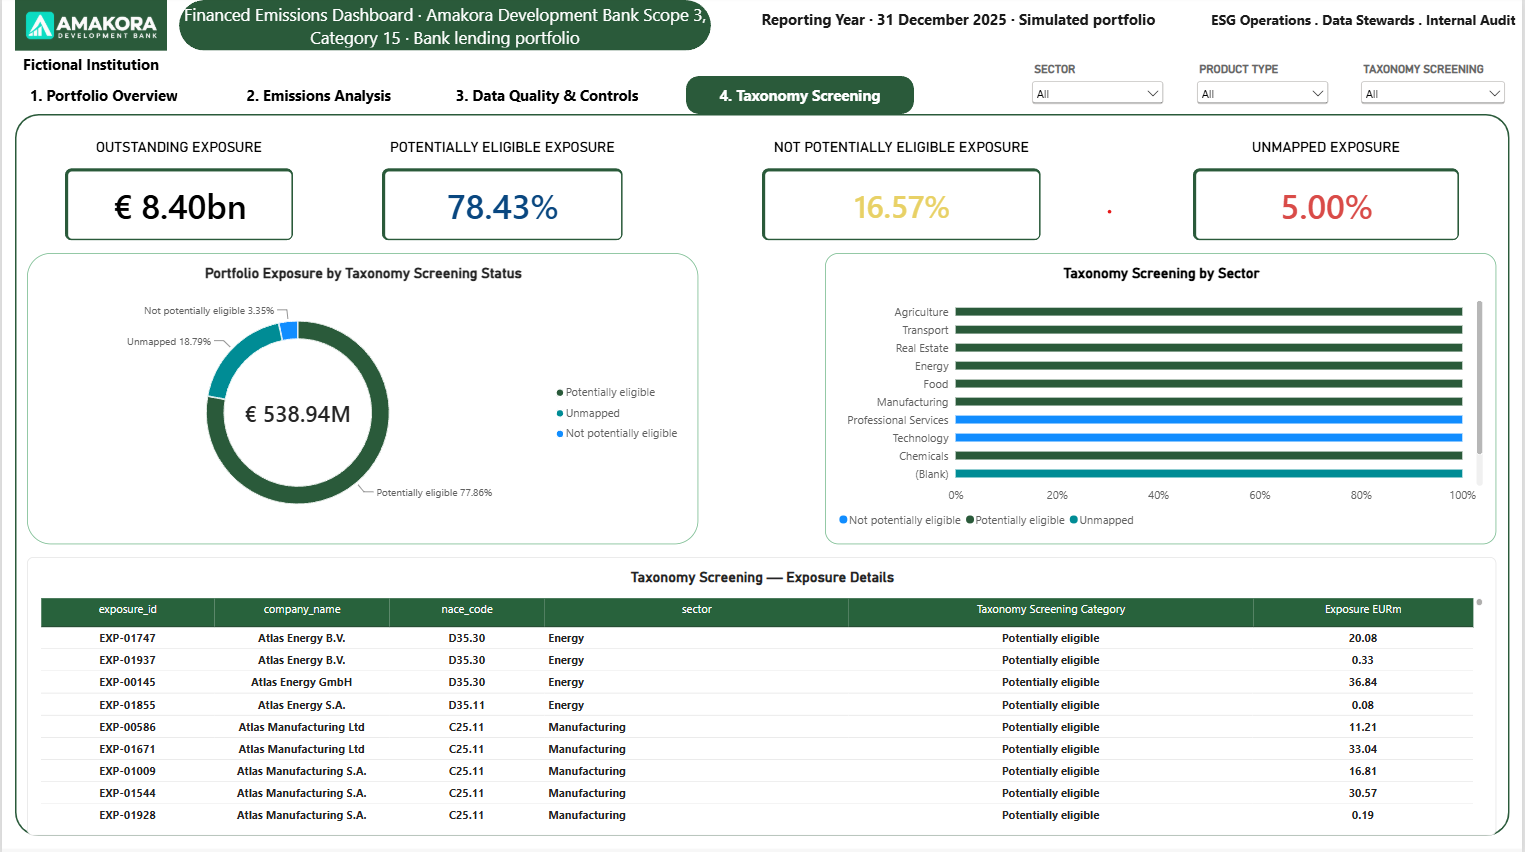

The page's visual inventory and layout, read from the dashboard file:
{"tool":"powerbi","page":{"name":"Taxonomy Map","canvas":[1920,1080],"ordinal":3},"visuals":[{"type":"shape","box":[0,0,1920,1072],"z":0},{"type":"shape","box":[224,0,672,64],"z":1000},{"type":"shape","box":[912,0,592,48],"z":2000},{"type":"shape","box":[16,96,224,48],"z":3000},{"type":"shape","box":[16,144,1888,912],"z":4000},{"type":"cardVisual","title":"POTENTIALLY ELIGIBLE EXPOSURE","fields":{"Data":["FCT_Portfolio_Calculated.Potentially Eligible Exposure %"]},"box":[480,176,304,128],"z":5000},{"type":"cardVisual","title":"UNMAPPED EXPOSURE","fields":{"Data":["FCT_Portfolio_Calculated.Unmapped Exposure %"]},"box":[1504,176,336,128],"z":6000},{"type":"donutChart","title":"Portfolio Exposure by Taxonomy Screening Status","fields":{"Category":["FCT_Portfolio_Calculated.Taxonomy Screening Category"],"Y":["FCT_Portfolio_Calculated.Portfolio Exposure EUR"]},"box":[32,320,848,368],"z":7000},{"type":"shape","box":[288,96,224,48],"z":8000},{"type":"slicer","fields":{"Values":["STG_Counterparties.sector_reported"]},"box":[1296,80,176,64],"z":9000},{"type":"slicer","fields":{"Values":["FCT_Portfolio_Calculated.product_type"]},"box":[1504,80,176,64],"z":10000},{"type":"slicer","fields":{"Values":["FCT_Portfolio_Calculated.Taxonomy Screening Category"]},"box":[1712,80,192,64],"z":11000},{"type":"hundredPercentStackedBarChart","title":"Taxonomy Screening by Sector","fields":{"Category":["STG_Sector_Factors.sector"],"Y":["FCT_Portfolio_Calculated.Portfolio Exposure EUR"],"Series":["FCT_Portfolio_Calculated.Taxonomy Screening Category"]},"box":[1040,320,848,368],"z":12000},{"type":"shape","box":[544,96,288,48],"z":13000},{"type":"cardVisual","title":"NOT POTENTIALLY ELIGIBLE EXPOSURE","fields":{"Data":["FCT_Portfolio_Calculated.Not Potentially Eligible Exposure %"]},"box":[960,176,352,128],"z":14000},{"type":"tableEx","title":"Taxonomy Screening — Exposure Details","fields":{"Values":["FCT_Portfolio_Calculated.exposure_id","STG_Counterparties.company_name","STG_Counterparties.nace_code","STG_Sector_Factors.sector","FCT_Portfolio_Calculated.Taxonomy Screening Category","FCT_Portfolio_Calculated.Exposure EURm"]},"box":[32,704,1856,352],"z":15000},{"type":"shape","box":[1520,0,400,48],"z":16000},{"type":"image","box":[16,0,192,64],"z":17000},{"type":"cardVisual","title":"OUTSTANDING EXPOSURE","fields":{"Data":["FCT_Loan_Exposures_Valid.Total Valid Exposure EUR"]},"box":[80,176,288,128],"z":18000},{"type":"shape","box":[864,96,288,48],"z":19000},{"type":"shape","box":[16,64,192,32],"z":20000}]}

Visuals, with their boxes in screenshot pixels (x1, y1, x2, y2), scaled from the page's 1920x1080 canvas onto the 1525x852 screenshot:
shape: BBox(0, 0, 1524, 846)
shape: BBox(178, 0, 712, 50)
shape: BBox(724, 0, 1195, 38)
shape: BBox(13, 76, 191, 114)
shape: BBox(13, 114, 1512, 833)
"POTENTIALLY ELIGIBLE EXPOSURE" cardVisual: BBox(381, 139, 623, 240)
"UNMAPPED EXPOSURE" cardVisual: BBox(1195, 139, 1461, 240)
"Portfolio Exposure by Taxonomy Screening Status" donutChart: BBox(25, 252, 699, 543)
shape: BBox(229, 76, 407, 114)
slicer - STG_Counterparties.sector_reported: BBox(1029, 63, 1169, 114)
slicer - FCT_Portfolio_Calculated.product_type: BBox(1195, 63, 1334, 114)
slicer - FCT_Portfolio_Calculated.Taxonomy Screening Category: BBox(1360, 63, 1512, 114)
"Taxonomy Screening by Sector" hundredPercentStackedBarChart: BBox(826, 252, 1500, 543)
shape: BBox(432, 76, 661, 114)
"NOT POTENTIALLY ELIGIBLE EXPOSURE" cardVisual: BBox(762, 139, 1042, 240)
"Taxonomy Screening — Exposure Details" tableEx: BBox(25, 555, 1500, 833)
shape: BBox(1207, 0, 1524, 38)
image: BBox(13, 0, 165, 50)
"OUTSTANDING EXPOSURE" cardVisual: BBox(64, 139, 292, 240)
shape: BBox(686, 76, 915, 114)
shape: BBox(13, 50, 165, 76)
